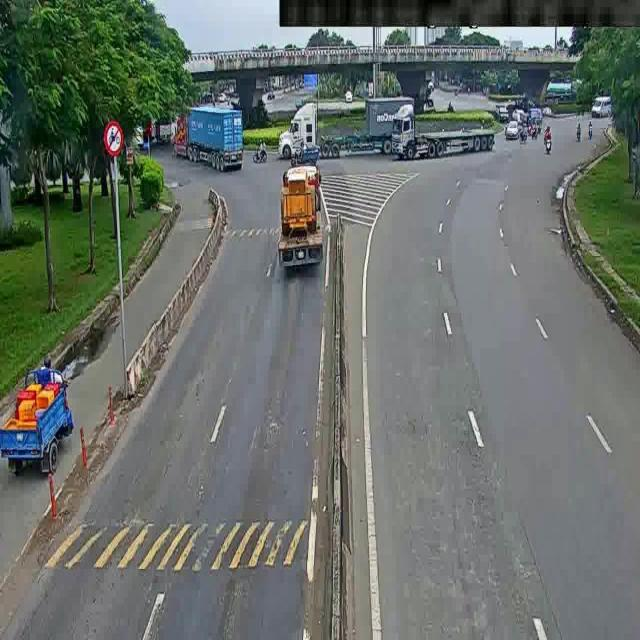car: (585, 92, 613, 114), (503, 113, 520, 141), (508, 105, 525, 125)
motorbike: (2, 358, 76, 480), (538, 125, 556, 166), (571, 120, 589, 142), (247, 140, 270, 157), (584, 110, 594, 138), (519, 124, 526, 139)
truck: (282, 90, 418, 161), (272, 163, 329, 280), (388, 106, 499, 156), (174, 108, 247, 173)
